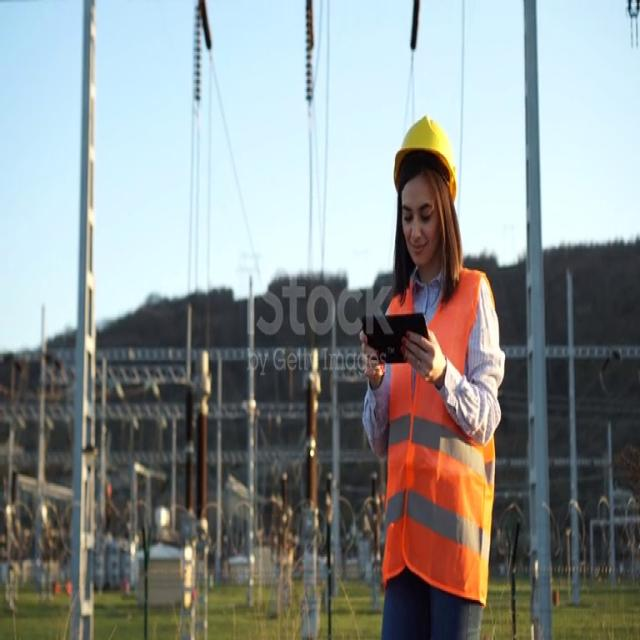capacete: (384, 105, 466, 211)
